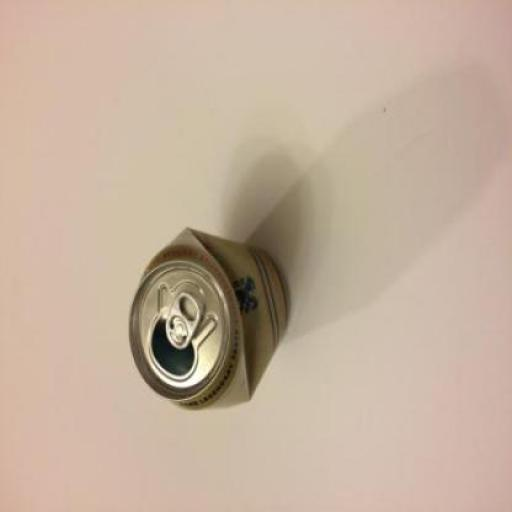metal: (126, 224, 288, 410)
